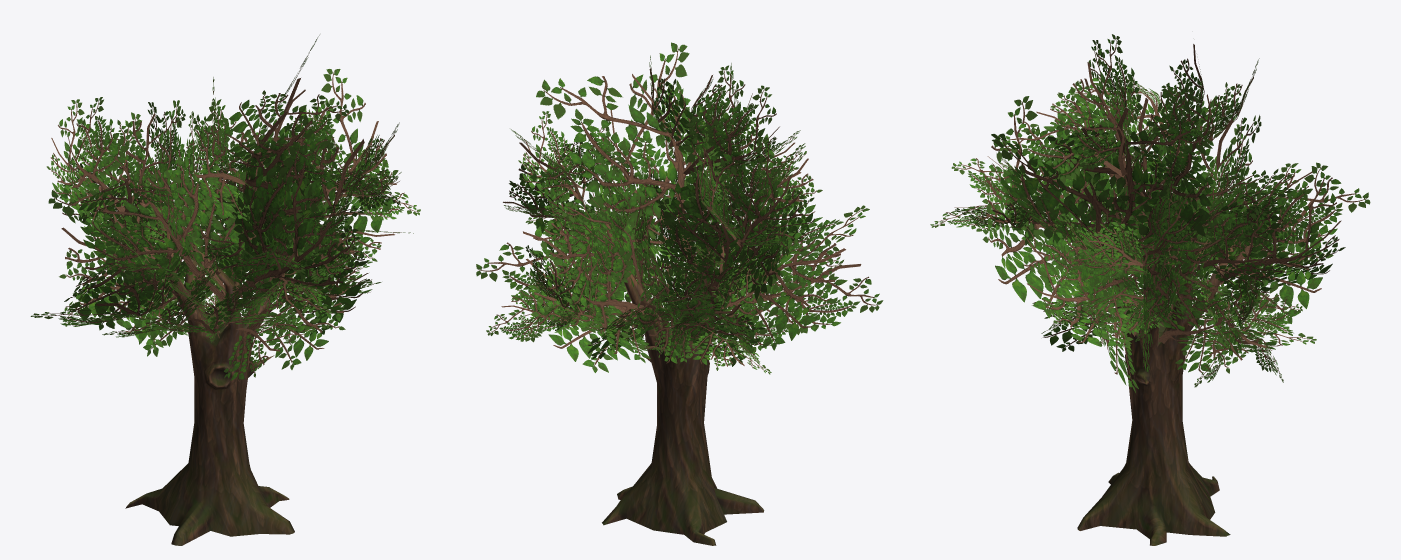
Rendered from ForestTree 1.fbx.
3 renders of one model, left to right at view 1: azimuth 30°, elevation 25°; view 2: azimuth 150°, elevation 25°; view 3: azimuth 270°, elevation 25°, orthographic. The views are drawn at different scales.
Parts seen in each view (by area): view 1: Tree; view 2: Tree; view 3: Tree.
Part boxes in pixels (x1,y1,x2,y2): Tree: (30,35,420,545); Tree: (476,42,883,545); Tree: (930,34,1370,545).
Size of the model in its own units: 901 by 929 by 822.
